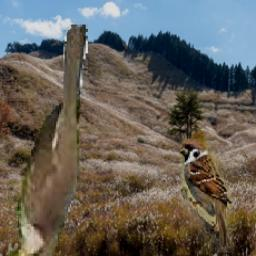Cuckoo: (6, 26, 87, 256)
Sparrow: (179, 140, 232, 254)
